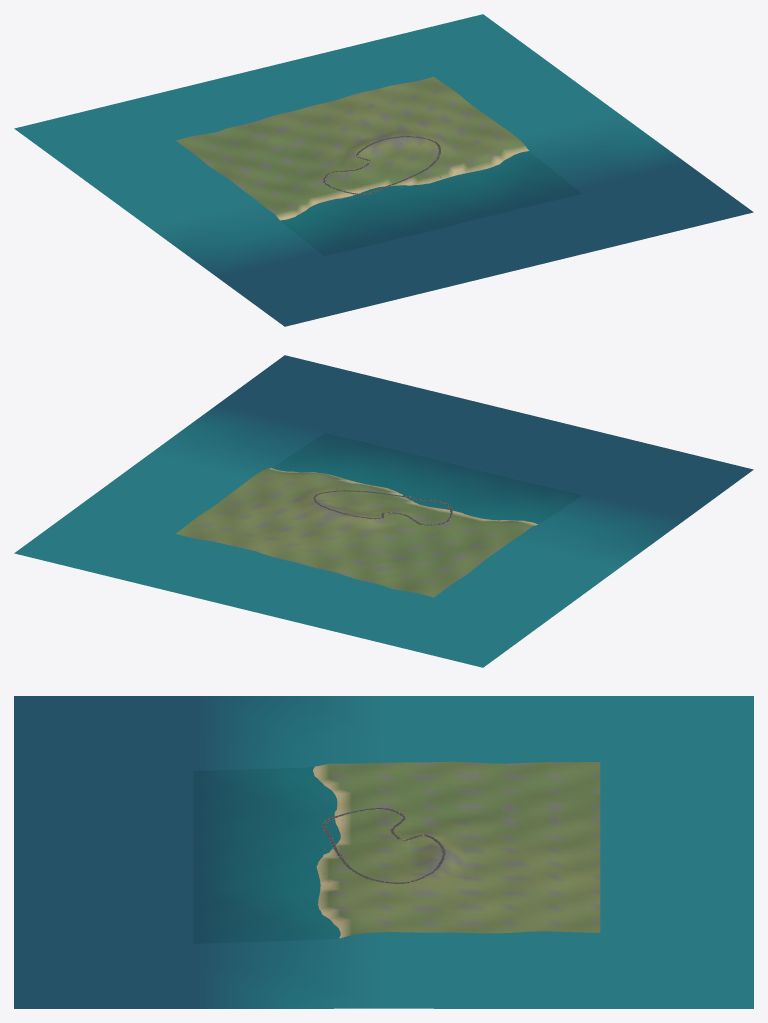
The model's file is azurline-circuit-lod3.glb.
3 views of the same model, one above another, from view 1: azimuth 30°, elevation 25°; view 2: azimuth 150°, elevation 25°; view 3: azimuth 270°, elevation 25° (orthographic). The views are drawn at different scales.
Parts seen in each view (by area): view 1: ocean__Atlantic_water, terrain__Coastal_terrain; view 2: ocean__Atlantic_water, terrain__Coastal_terrain; view 3: ocean__Atlantic_water, terrain__Coastal_terrain, road__Asphalt_—_aggregate_variation.
Boxes of the visible parts, bbox=[...] form: ocean__Atlantic_water: bbox=[14, 14, 753, 326]; terrain__Coastal_terrain: bbox=[176, 76, 528, 220]; ocean__Atlantic_water: bbox=[14, 355, 753, 667]; terrain__Coastal_terrain: bbox=[176, 468, 537, 597]; ocean__Atlantic_water: bbox=[14, 696, 753, 1008]; terrain__Coastal_terrain: bbox=[313, 761, 600, 938]; road__Asphalt_—_aggregate_variation: bbox=[323, 808, 444, 883].
Bounding box in the file's own units: 4000 × 112 × 4000.
